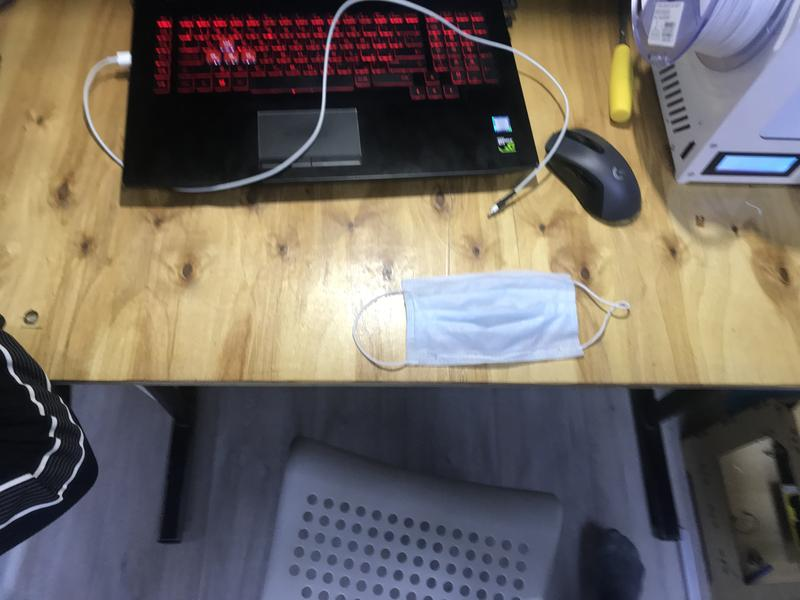medical_mask: (353, 270, 630, 366)
